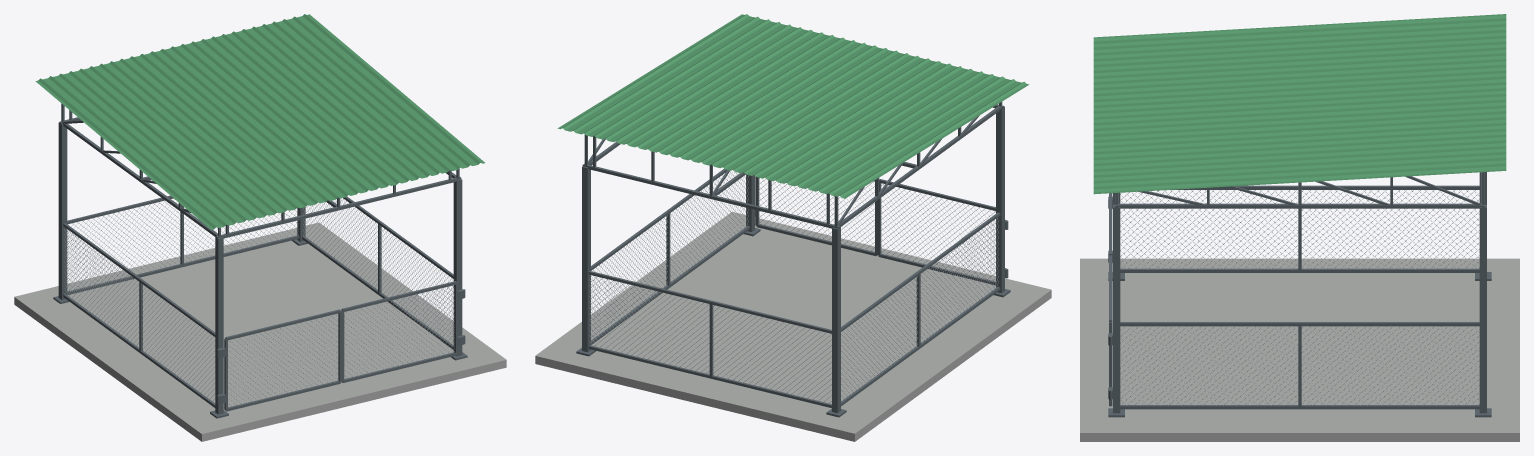
File: SteelRoof_New_From_Drawing.glb
3 renders of one model, left to right at view 1: azimuth 30°, elevation 25°; view 2: azimuth 150°, elevation 25°; view 3: azimuth 270°, elevation 25°, orthographic. The views are drawn at different scales.
Parts seen in each view (by area): view 1: Floor_Slab, Green_Corrugated_Roof, Fence_Left_DiamondMesh, Fence_Right_DiamondMesh, Fence_Back_DiamondMesh, Gate_Left_DiamondMesh, Gate_Right_DiamondMesh, Column_Left_Back, Column_Left_Front, Column_Right_Front, Cross360_Front_Bottom, Fence_Back_Bottom (+9 smaller); view 2: Floor_Slab, Green_Corrugated_Roof, Fence_Back_DiamondMesh, Fence_Left_DiamondMesh, Fence_Right_DiamondMesh, Gate_Left_DiamondMesh, Gate_Right_DiamondMesh, Column_Left_Back, Column_Right_Back, Column_Left_Front, Cross360_Back_Bottom, Fence_Back_Top (+9 smaller); view 3: Floor_Slab, Green_Corrugated_Roof, Fence_Right_DiamondMesh, Fence_Left_DiamondMesh, Truss400_Right_Bottom, Fence_Right_Bottom, Fence_Right_Top, Fence_Left_Bottom, Column_Right_Back, Column_Right_Front, Fence_Left_Top.
Part boxes in pixels (x1,y1,x2,y2): Floor_Slab: (14, 222, 506, 441); Green_Corrugated_Roof: (35, 14, 484, 229); Fence_Left_DiamondMesh: (64, 229, 215, 403); Fence_Right_DiamondMesh: (303, 198, 453, 343); Fence_Back_DiamondMesh: (67, 199, 298, 290); Gate_Left_DiamondMesh: (228, 314, 338, 406); Gate_Right_DiamondMesh: (344, 285, 454, 378); Column_Left_Back: (58, 122, 67, 299); Column_Left_Front: (215, 237, 223, 414); Column_Right_Front: (453, 179, 462, 356); Cross360_Front_Bottom: (216, 177, 461, 239); Fence_Back_Bottom: (67, 235, 299, 295); Floor_Slab: (535, 212, 1051, 441); Green_Corrugated_Roof: (557, 14, 1029, 198); Fence_Back_DiamondMesh: (589, 275, 831, 403); Fence_Left_DiamondMesh: (841, 217, 998, 401); Fence_Right_DiamondMesh: (591, 170, 748, 340); Gate_Left_DiamondMesh: (881, 184, 995, 280); Gate_Right_DiamondMesh: (759, 178, 874, 251); Column_Left_Back: (832, 227, 840, 413); Column_Right_Back: (582, 166, 590, 352); Column_Left_Front: (996, 106, 1004, 293); Cross360_Back_Bottom: (582, 163, 840, 229); Fence_Back_Top: (588, 271, 831, 333); Floor_Slab: (1080, 258, 1519, 441); Green_Corrugated_Roof: (1093, 14, 1506, 194); Fence_Right_DiamondMesh: (1120, 326, 1479, 405); Fence_Left_DiamondMesh: (1120, 190, 1479, 269); Truss400_Right_Bottom: (1118, 203, 1481, 208); Fence_Right_Bottom: (1120, 405, 1479, 409); Fence_Right_Top: (1120, 322, 1479, 326); Fence_Left_Bottom: (1120, 268, 1479, 272); Column_Right_Back: (1479, 204, 1486, 413); Column_Right_Front: (1113, 204, 1120, 413); Fence_Left_Top: (1172, 185, 1479, 189).
Size of the model in its own units: 4.5 by 3.18 by 4.8.
